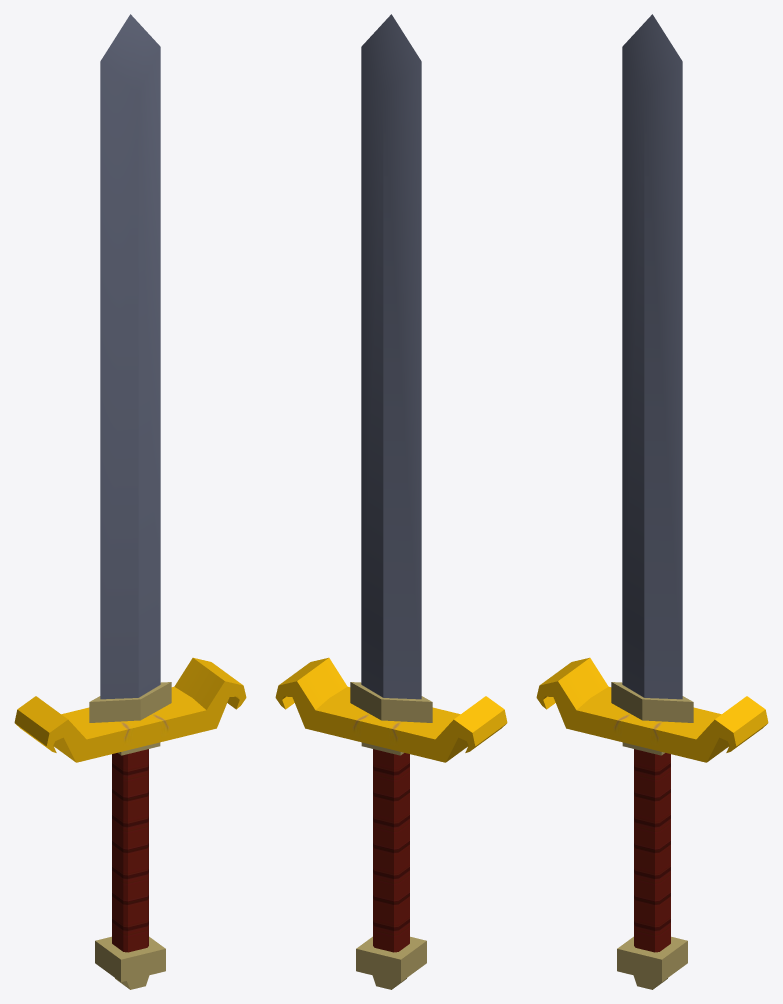
File: sword.fbx
The picture shows the model from 3 angles, left to right: view 1: azimuth 30°, elevation 25°; view 2: azimuth 150°, elevation 25°; view 3: azimuth 330°, elevation 25°; orthographic projection.
Parts seen in each view (by area): view 1: sword; view 2: sword; view 3: sword.
Boxes of the visible parts, bbox=[...] form: sword: bbox=[14, 14, 246, 989]; sword: bbox=[275, 14, 507, 989]; sword: bbox=[536, 14, 768, 989].
Size of the model in its own units: 30.25 by 140 by 8.44.
Materials: 1 (1 with a texture image).
